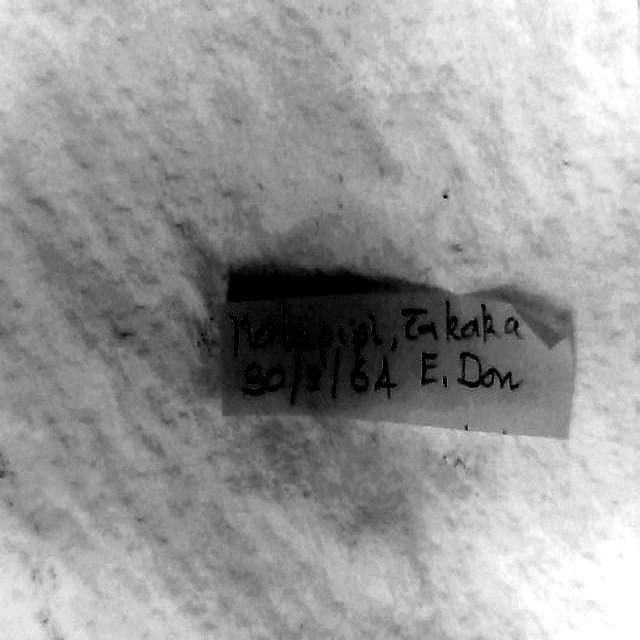hand_label: (222, 290, 574, 436)
